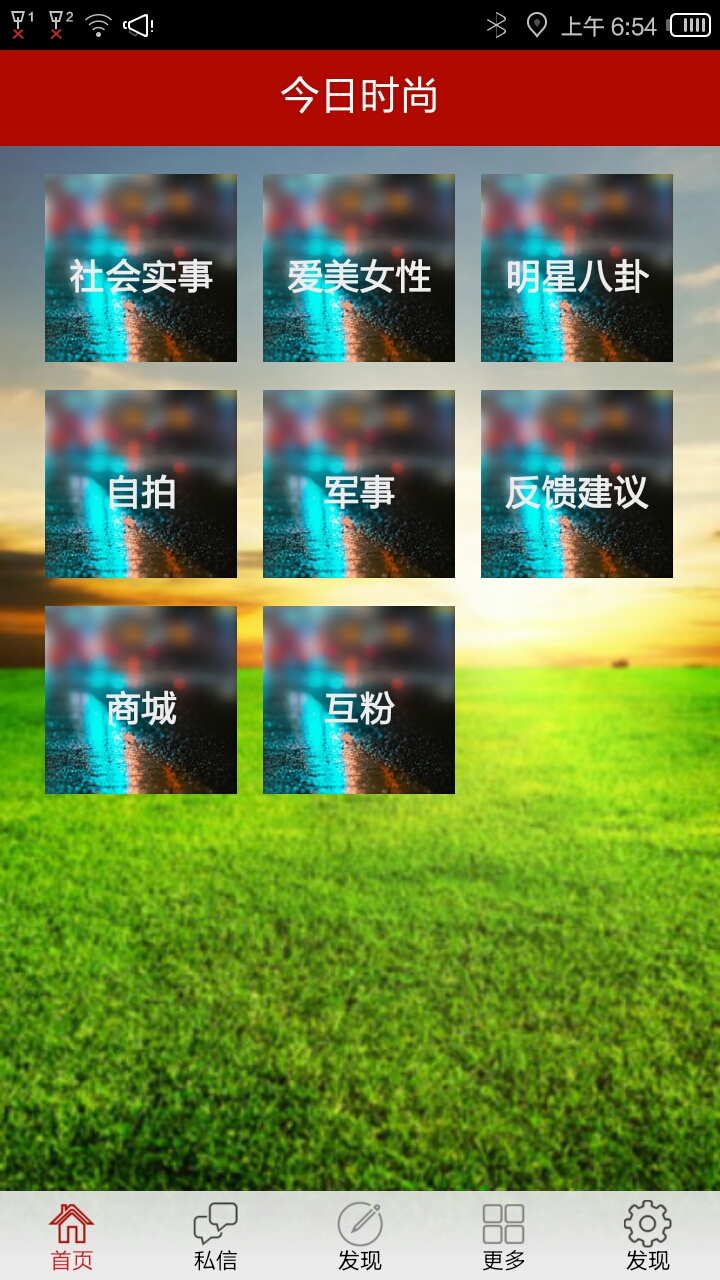imgview: (33, 823, 720, 1145)
